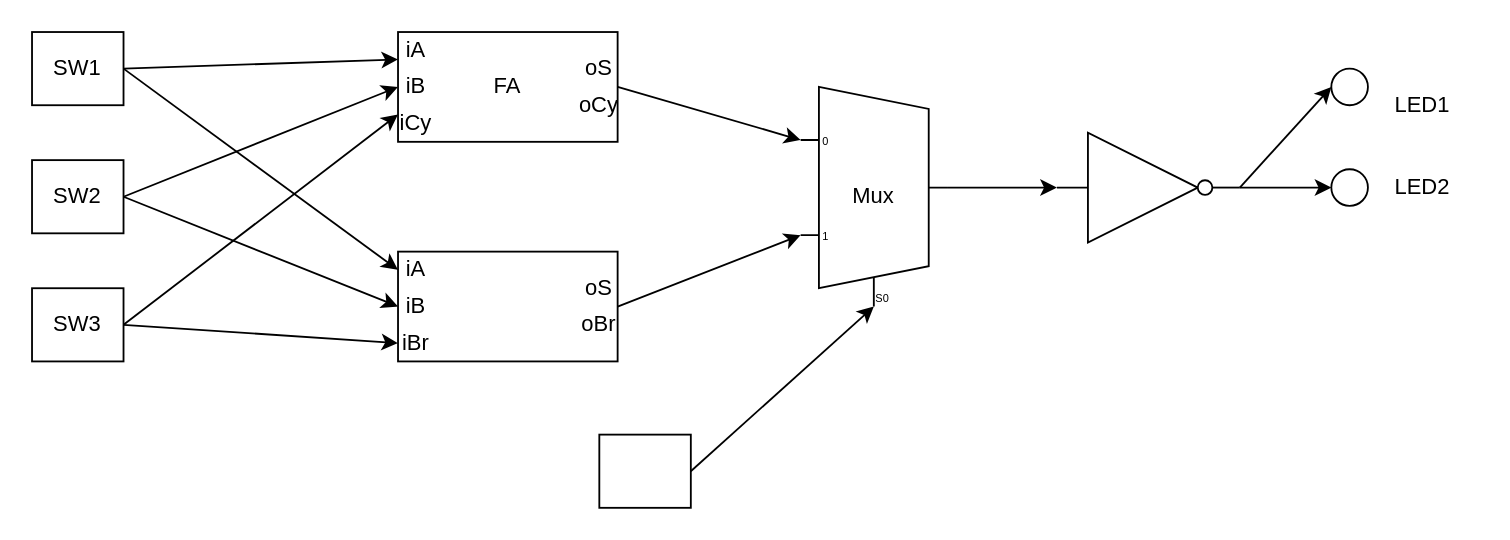
Image size: 1510x540. Some labels were removed from this diagram. The shapes that lost their labels are listed below. From the top down, each one's box as (x1, y1, x2, y2) in pixels, then its label:
(396, 250, 618, 361): FS
(597, 433, 691, 508): SW4
